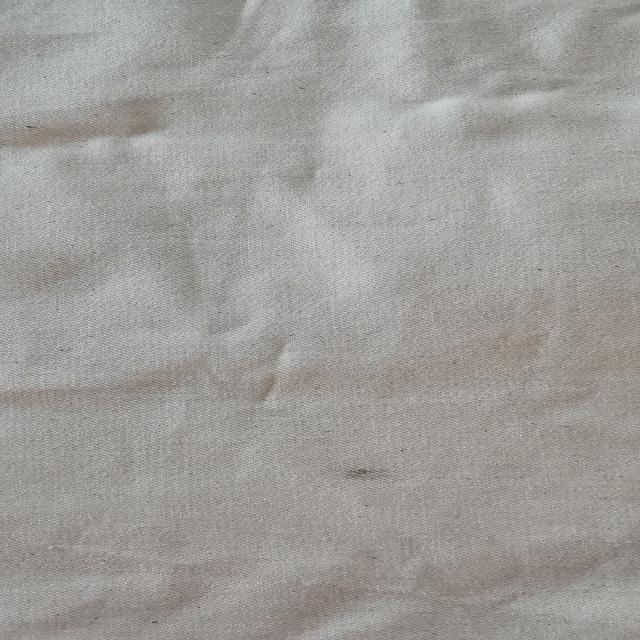taaaches: (335, 461, 407, 493)
